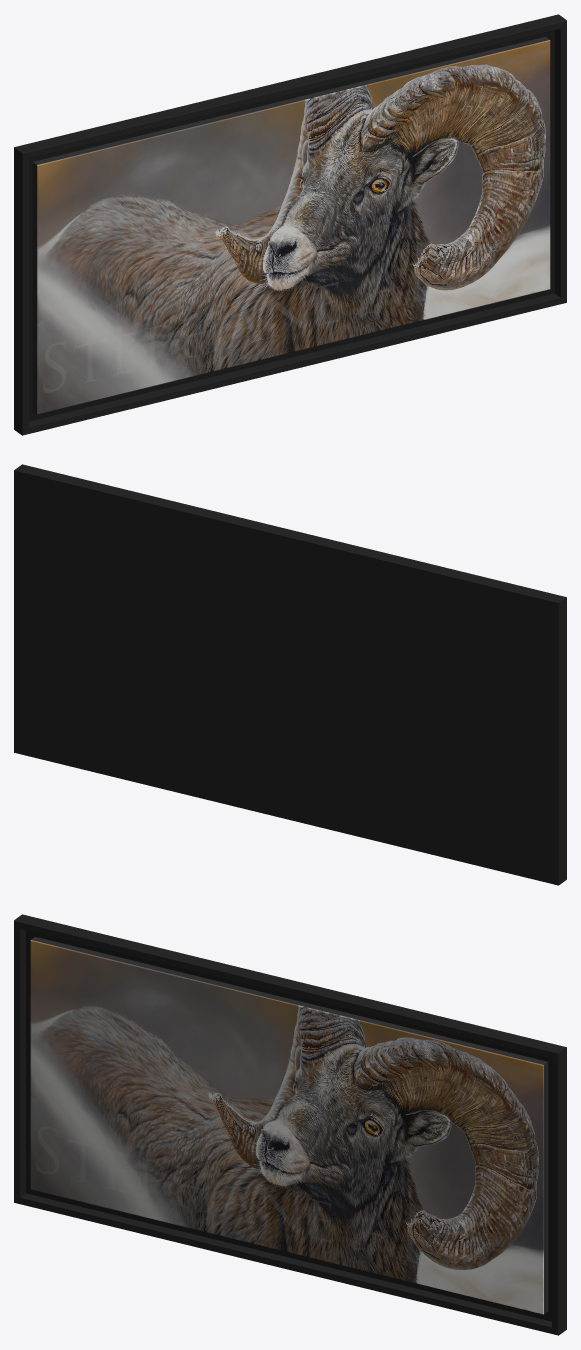
Rendered from tableau-mouflon-canada-grand-7f18a0c8.glb.
3 views of the same model, one above another, from view 1: azimuth 30°, elevation 25°; view 2: azimuth 150°, elevation 25°; view 3: azimuth 330°, elevation 25° (orthographic).
Parts seen in each view (by area): view 1: Painting; view 2: Painting; view 3: Painting.
Part boxes in pixels (x1=…): Painting: x1=14, y1=14, x2=566, y2=435; Painting: x1=14, y1=464, x2=566, y2=885; Painting: x1=14, y1=914, x2=566, y2=1335.
Size of the model in its own units: 1.49 by 0.736 by 0.04.
4 materials, 2 textured.
